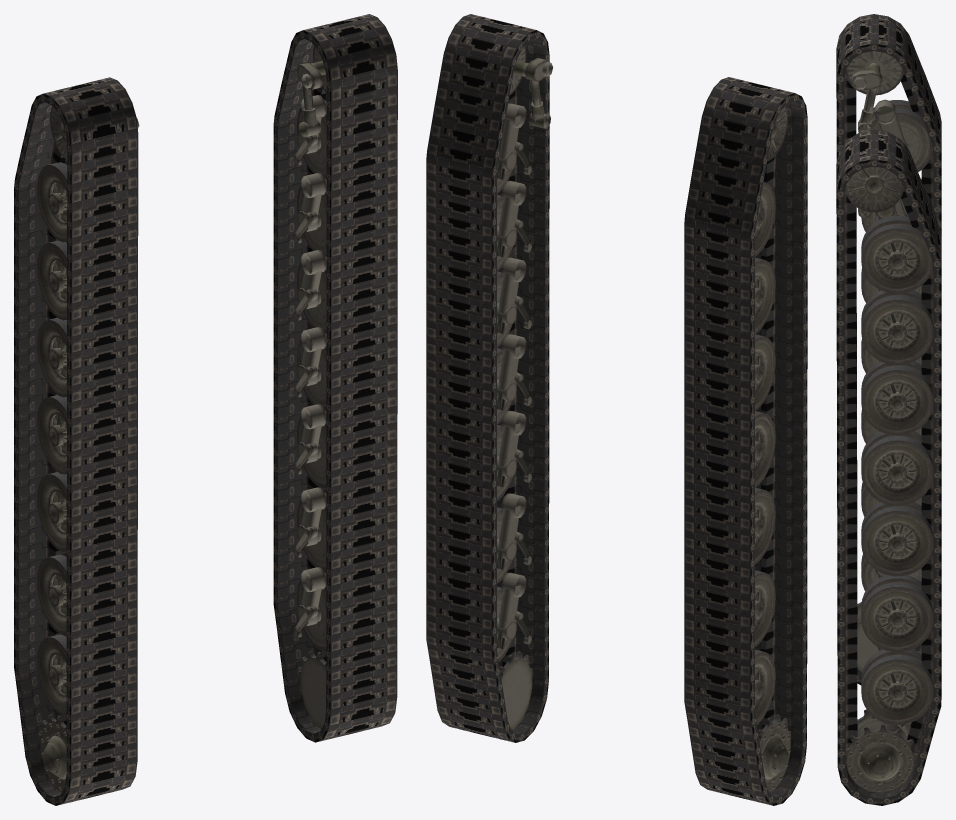
The model's file is Chassis.glb.
3 views of the same model, side by side, from view 1: azimuth 30°, elevation 25°; view 2: azimuth 150°, elevation 25°; view 3: azimuth 270°, elevation 25° (orthographic). The views are drawn at different scales.
Parts seen in each view (by area): view 1: set_5_group_0, set_3_group_0, set_0_group_0, set_1_group_0, set_4_group_0, set_2_group_0; view 2: set_5_group_0, set_3_group_0, set_0_group_0, set_1_group_0, set_4_group_0, set_2_group_0; view 3: set_0_group_0, set_3_group_0, set_5_group_0, set_1_group_0, set_2_group_0.
Part boxes in pixels (x1,y1,x2,y2): set_5_group_0: (14, 77, 138, 805); set_3_group_0: (273, 14, 397, 742); set_0_group_0: (293, 45, 326, 728); set_1_group_0: (37, 106, 139, 792); set_4_group_0: (65, 688, 137, 792); set_2_group_0: (324, 625, 397, 729); set_5_group_0: (684, 77, 807, 805); set_3_group_0: (426, 14, 549, 742); set_0_group_0: (497, 45, 553, 729); set_1_group_0: (755, 106, 790, 792); set_4_group_0: (757, 667, 806, 761); set_2_group_0: (498, 605, 548, 698); set_0_group_0: (845, 166, 933, 793); set_3_group_0: (836, 129, 941, 805); set_5_group_0: (836, 14, 941, 685); set_1_group_0: (845, 51, 933, 671); set_2_group_0: (837, 687, 857, 782).
Bounding box in the file's own units: 3.52 × 7.26 × 1.07.
Materials: 6 (6 with a texture image).
